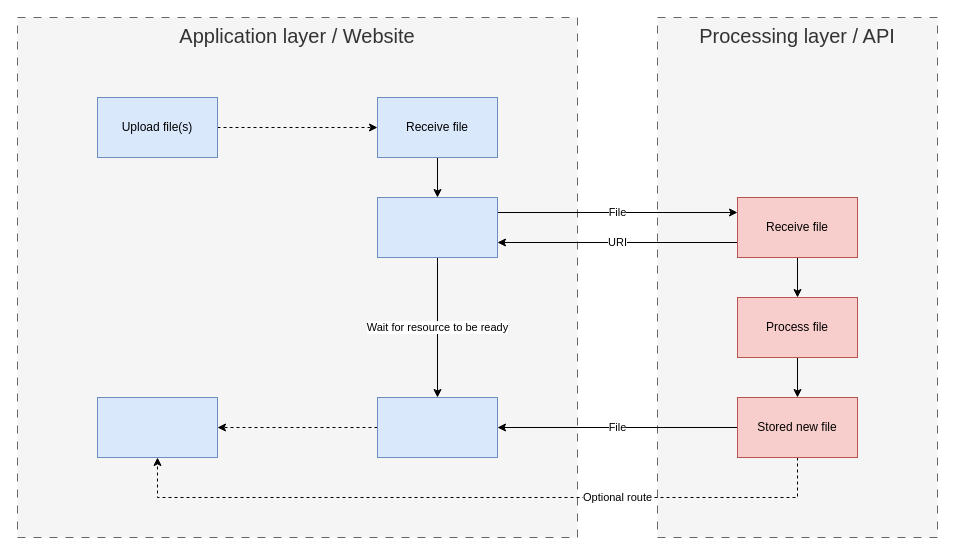
Some shapes in this 955 by 555 pixel diagram are drawn without their labels. The shapes that lost their labels are listed below. From the top down, each one's centre as x and y in pixels, then its label:
At (x=437, y=227): "Send file to API".
At (x=157, y=427): "Download file(s)".
At (x=437, y=427): "Receive file from API".
